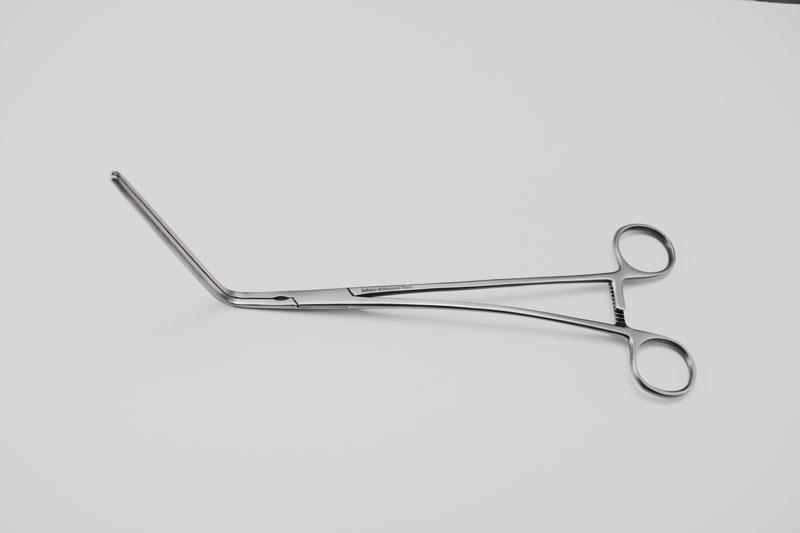Right Angle Colon Clamp: (103, 147, 701, 409)
